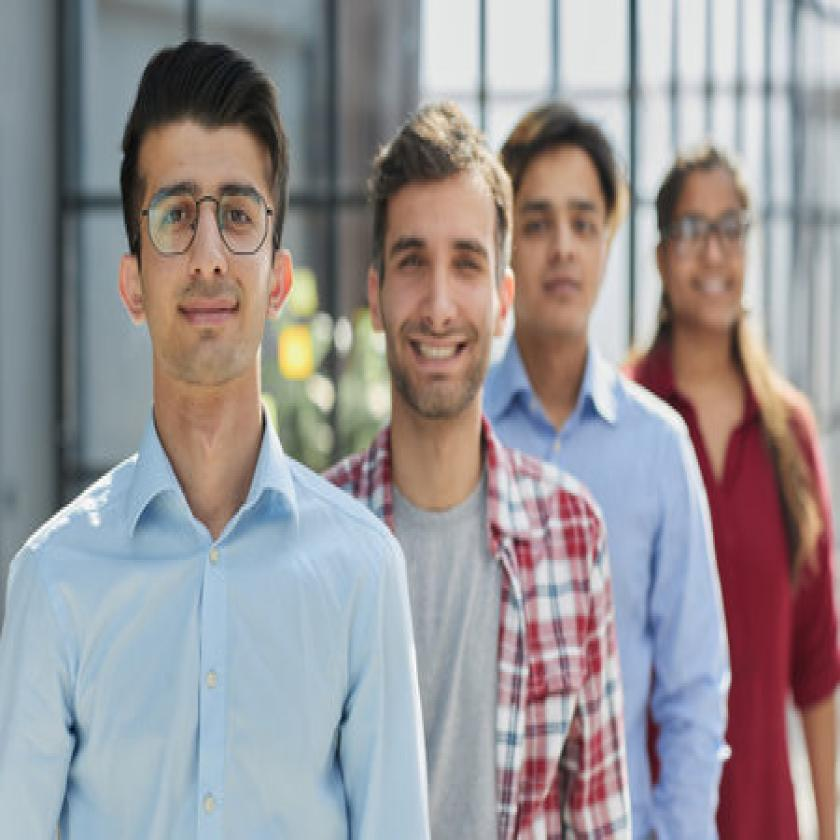Sin_casco: (110, 29, 297, 428), (359, 99, 514, 418), (498, 88, 625, 360), (647, 136, 759, 356)
